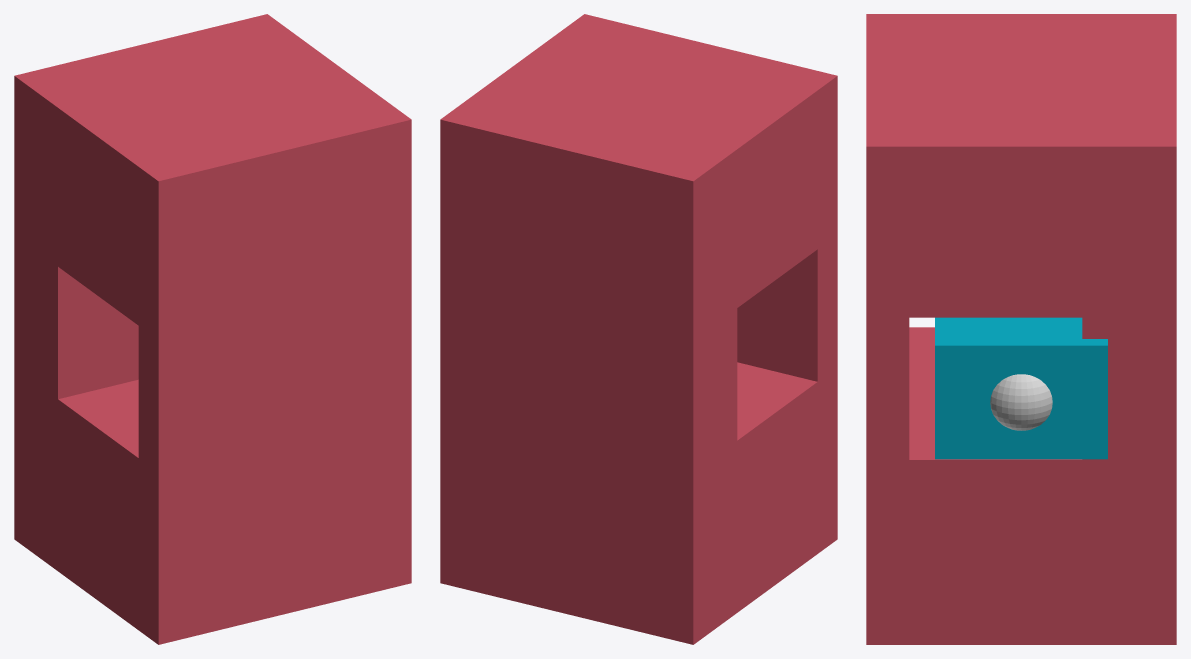
File: Smooth Snaget-Inari.glb
3 renders of one model, left to right at view 1: azimuth 30°, elevation 25°; view 2: azimuth 150°, elevation 25°; view 3: azimuth 270°, elevation 25°, orthographic. The views are drawn at different scales.
Visible parts, largest first — view 1: Mesh_Mesh_head_geo.001_lambert2SG.001; view 2: Mesh_Mesh_head_geo.001_lambert2SG.001; view 3: Mesh_Mesh_head_geo.001_lambert2SG.001.
Part boxes in pixels (x1,y1,x2,y2): Mesh_Mesh_head_geo.001_lambert2SG.001: (14,14,411,644); Mesh_Mesh_head_geo.001_lambert2SG.001: (440,14,837,644); Mesh_Mesh_head_geo.001_lambert2SG.001: (866,14,1176,644).
Size of the model in its own units: 22 by 35 by 19.74.
